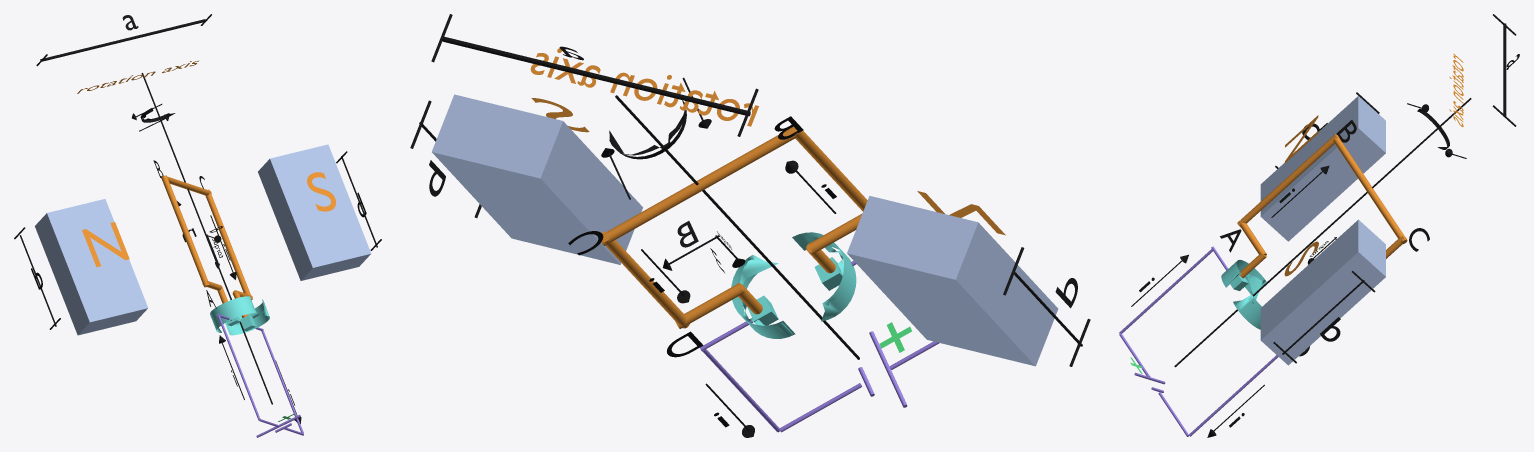
Rendered from torque_angle.glb.
The picture shows the model from 3 angles, left to right: view 1: azimuth 30°, elevation 25°; view 2: azimuth 150°, elevation 25°; view 3: azimuth 270°, elevation 25°; orthographic projection. The views are drawn at different scales.
Visible parts, largest first — view 1: Cube, Cube.001, Cylinder.007, Cylinder.002, Cylinder, Cylinder.023, Text.002, Cylinder.024, Cylinder.008, Text.003; view 2: Cube.001, Cube, Cylinder.001, Text.006, Cylinder.024, Cylinder.007, Cylinder.008, Cylinder, Cylinder.002, Cylinder.023, Cylinder.003, Cylinder.034 (+1 smaller); view 3: Cube, Cube.001, Cylinder.002, Cylinder.001, Cylinder.023, Cylinder.007, Cylinder.008, Text.006, Cylinder.011.
Part boxes in pixels (x1,y1,x2,y2): Cube: (258,144,371,280); Cube.001: (35,199,147,335); Cylinder.007: (210,296,256,332); Cylinder.002: (161,175,209,287); Cylinder: (205,189,252,299); Cylinder.023: (141,73,272,404); Text.002: (82,222,129,267); Cylinder.024: (40,19,205,61); Cylinder.008: (225,299,269,335); Text.003: (307,172,336,211); Cube.001: (847,195,1058,366); Cube: (432,94,642,264); Cylinder.001: (601,127,798,245); Text.006: (530,48,758,126); Cylinder.024: (442,36,750,116); Cylinder.007: (792,232,856,321); Cylinder.008: (731,254,795,338); Cylinder: (602,231,689,328); Cylinder.002: (790,126,867,211); Cylinder.023: (615,95,859,359); Cylinder.003: (675,283,744,328); Cylinder.034: (609,100,686,159); Cube: (1260,219,1385,365); Cube.001: (1260,96,1385,241); Cylinder.002: (1237,134,1339,227); Cylinder.001: (1333,135,1407,243); Cylinder.023: (1174,98,1471,367); Cylinder.007: (1221,260,1266,299); Cylinder.008: (1233,294,1261,329); Text.006: (1449,53,1463,126); Cylinder.011: (1119,248,1213,333).
Size of the model in its own units: 9.24 by 8.55 by 8.51.
